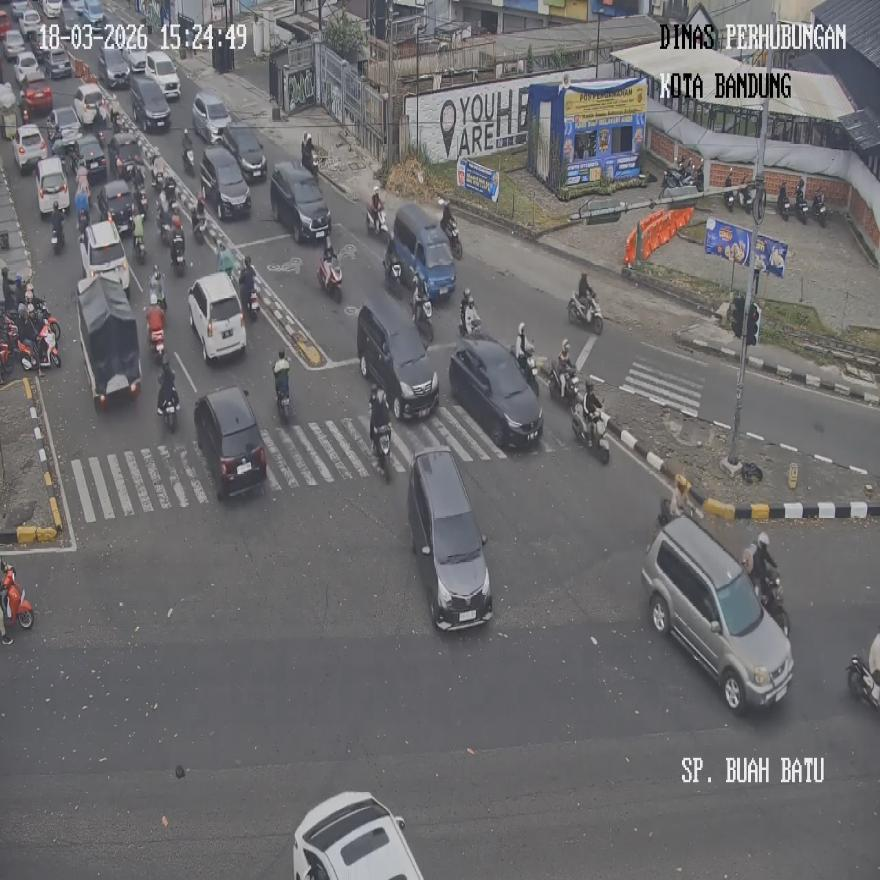Mobil: (641, 510, 795, 712), (407, 448, 493, 630), (291, 790, 423, 878), (448, 334, 543, 448), (357, 295, 438, 419), (77, 275, 142, 409), (194, 385, 267, 499), (392, 203, 456, 302), (188, 271, 246, 363), (270, 160, 332, 243)
Motor: (570, 401, 608, 464), (369, 394, 391, 481), (760, 574, 790, 637), (847, 653, 880, 710), (567, 291, 602, 335), (2, 583, 34, 629), (548, 356, 578, 404), (412, 281, 433, 345), (144, 302, 165, 363), (36, 317, 60, 369), (516, 341, 539, 395), (273, 358, 291, 422), (157, 382, 179, 432), (458, 290, 480, 336), (318, 254, 341, 297), (383, 248, 401, 295), (148, 266, 166, 313), (300, 133, 318, 180), (441, 219, 462, 259), (366, 199, 388, 237), (190, 201, 206, 245), (51, 204, 65, 254), (169, 230, 184, 275), (245, 281, 260, 323), (182, 130, 194, 177), (740, 180, 756, 215), (723, 168, 736, 211), (132, 220, 145, 263), (812, 191, 826, 226), (778, 182, 790, 221), (796, 188, 809, 224), (164, 176, 177, 211)
